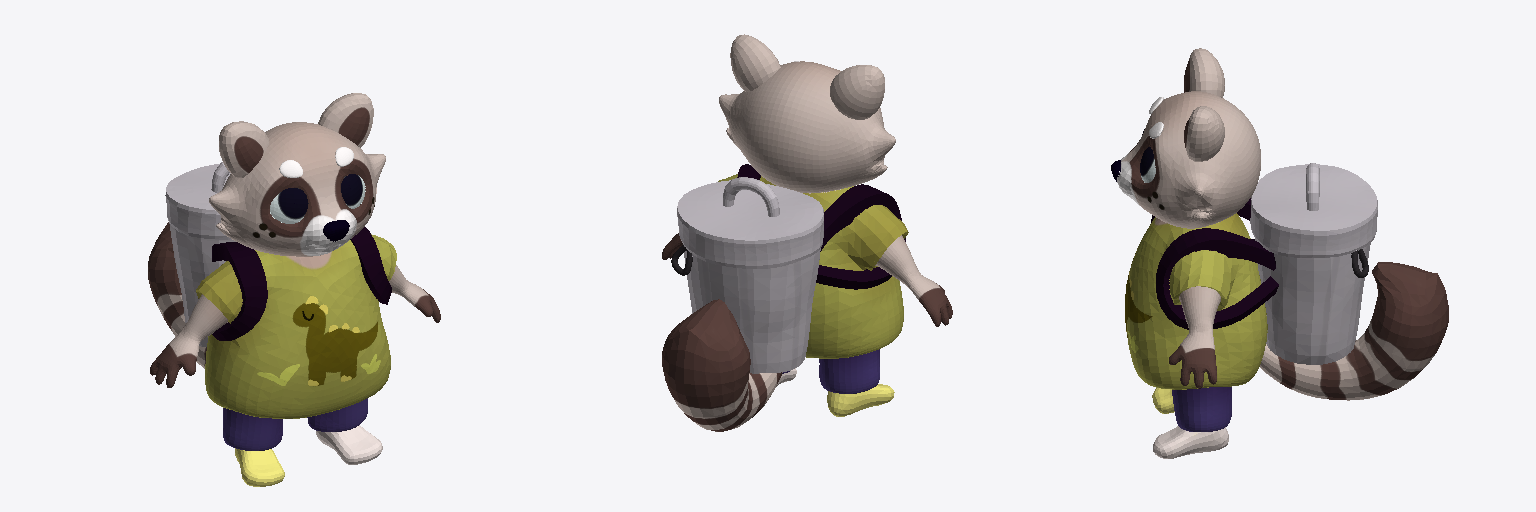
3 renders of one model, left to right at view 1: azimuth 30°, elevation 25°; view 2: azimuth 150°, elevation 25°; view 3: azimuth 270°, elevation 25°, orthographic.
Parts seen in each view (by area): view 1: Shirt_1, LilHead_1, Straps_1, Ears_1, Arms_1, Lid_1, Pants_1, Feet_1, Tail_1, Pack_1, Eyes_1, Brows_1; view 2: LilHead_1, Lid_1, Shirt_1, Tail_1, Pack_1, Ears_1, Straps_1, Arms_1, Pants_1, Feet_1; view 3: Shirt_1, Tail_1, LilHead_1, Lid_1, Pack_1, Straps_1, Ears_1, Arms_1, Pants_1, Feet_1.
Boxes of the visible parts, box(x1,y1,x2,y2) form: Shirt_1: box(196, 234, 396, 418); LilHead_1: box(209, 122, 385, 256); Straps_1: box(212, 227, 391, 340); Ears_1: box(219, 93, 373, 177); Arms_1: box(150, 265, 440, 387); Lid_1: box(165, 162, 231, 239); Pants_1: box(223, 398, 367, 450); Feet_1: box(235, 425, 382, 486); Tail_1: box(148, 222, 206, 368); Pack_1: box(169, 223, 235, 346); Eyes_1: box(270, 174, 365, 223); Brows_1: box(279, 147, 353, 177); LilHead_1: box(719, 61, 895, 192); Lid_1: box(677, 177, 823, 268); Shirt_1: box(718, 174, 908, 358); Tail_1: box(662, 299, 782, 431); Pack_1: box(684, 248, 820, 373); Ears_1: box(730, 34, 884, 119); Straps_1: box(737, 164, 905, 289); Arms_1: box(662, 233, 952, 326); Pants_1: box(782, 349, 879, 393); Feet_1: box(776, 368, 894, 416); Shirt_1: box(1125, 213, 1267, 389); Tail_1: box(1260, 262, 1448, 400); LilHead_1: box(1117, 91, 1260, 228); Lid_1: box(1250, 163, 1377, 257); Pack_1: box(1255, 239, 1370, 364); Straps_1: box(1151, 198, 1278, 329); Ears_1: box(1184, 48, 1224, 161); Arms_1: box(1169, 286, 1220, 388); Pants_1: box(1172, 387, 1231, 431); Feet_1: box(1152, 388, 1228, 458).
Size of the model in its own units: 3.28 by 3.93 by 3.42.
14 materials, 14 textured.